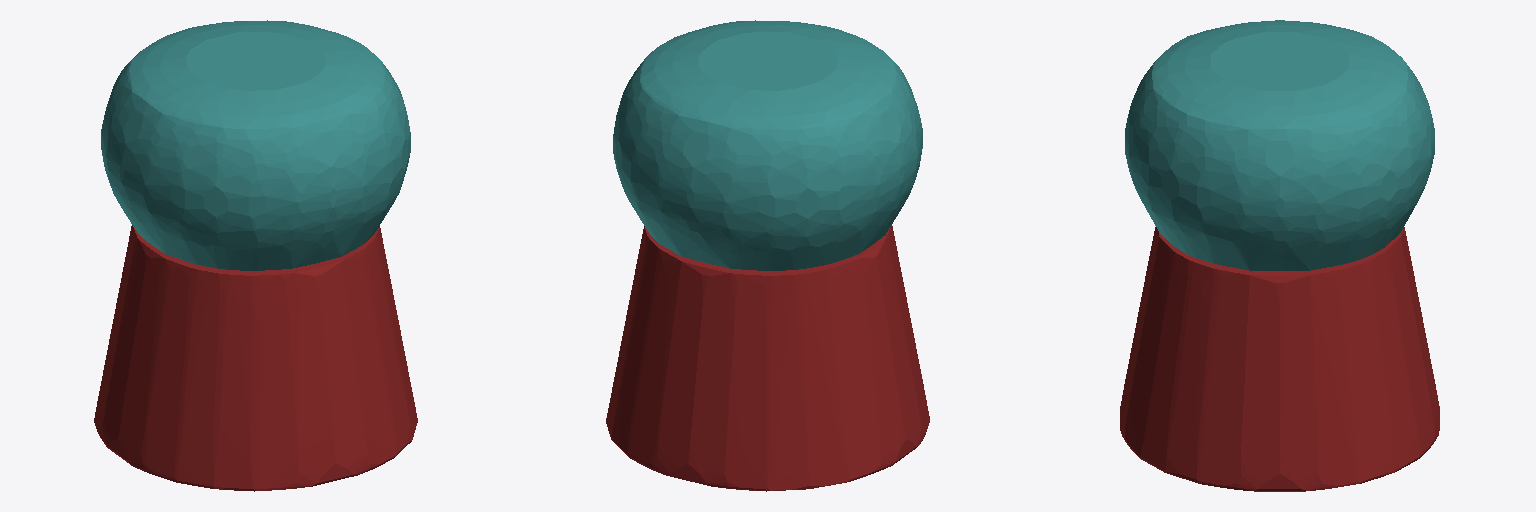
robot.urdf — root:
<robot name="root">
  <link name="bottle_body">
    <inertial>
      <origin xyz="0 0 0" rpy="0 0 0"/>
    </inertial>
    <mass value="1.00E-02"/>
    <visual>
      <origin xyz="0 0 0" rpy="0 0 0"/>
      <geometry>
        <mesh filename="core-bottle-98f2bdf417a15ceaa5d6dc096343ac63-coacd_convex_piece_1.obj" scale="1.0000E-01 1.0000E-01 1.0000E-01"/>
      </geometry>
      <material name="">
        <color rgba="6.00E-01 2.00E-01 2.00E-01 1"/>
      </material>
    </visual>
    <collision>
      <origin xyz="0 0 0" rpy="0 0 0"/>
      <geometry>
        <mesh filename="core-bottle-98f2bdf417a15ceaa5d6dc096343ac63-coacd_convex_piece_1.obj" scale="1.0000E-01 1.0000E-01 1.0000E-01"/>
      </geometry>
    </collision>
  </link>
  <link name="bottle_cap">
    <origin xyz="0 0 0.002" rpy="0 0 0"/>
    <mass value="1.00E-02"/>
    <visual>
      <origin xyz="0 0 0.002" rpy="0 0 0"/>
      <geometry>
        <mesh filename="core-bottle-98f2bdf417a15ceaa5d6dc096343ac63-coacd_convex_piece_0.obj" scale="1.0000E-01 1.0000E-01 1.0000E-01"/>
      </geometry>
      <material name="">
        <color rgba="3.00E-01 6.00E-01 6.00E-01 1"/>
      </material>
    </visual>
    <collision>
      <origin xyz="0 0 0.002" rpy="0 0 0"/>
      <geometry>
        <mesh filename="core-bottle-98f2bdf417a15ceaa5d6dc096343ac63-coacd_convex_piece_0.obj" scale="1.0000E-01 1.0000E-01 1.0000E-01"/>
      </geometry>
    </collision>
  </link>
  <joint name="bottle_cap_joint" type="revolute">
    <origin xyz="0 0 0" rpy="0 0 0"/>
    <parent link="bottle_body"/>
    <child link="bottle_cap"/>
    <axis xyz="0 0 1"/>
    <limit lower="0.00" upper="6.28"/>
    <dynamics damping="0.05"/>
  </joint>
</robot>

--- Render facts (derived) ---
3 views of the same robot in one strip: view 1: azimuth 30°, elevation 25°; view 2: azimuth 150°, elevation 25°; view 3: azimuth 270°, elevation 25° (orthographic).
Model root with 2 links and 1 joints (1 revolute), rooted at bottle_body, posed all joints at 0.
Visible links, largest first — view 1: bottle_body, bottle_cap; view 2: bottle_body, bottle_cap; view 3: bottle_body, bottle_cap.
Boxes of the visible links, <box> form: bottle_body: <box>94,225,417,491</box>; bottle_cap: <box>101,20,410,270</box>; bottle_body: <box>606,225,929,491</box>; bottle_cap: <box>613,20,922,270</box>; bottle_body: <box>1120,227,1439,491</box>; bottle_cap: <box>1125,20,1434,270</box>.
Size in the robot's own frame: 0.1227 by 0.1227 by 0.1545 metres.
2 mesh visuals loaded from 2 distinct referenced files (2 OBJ).